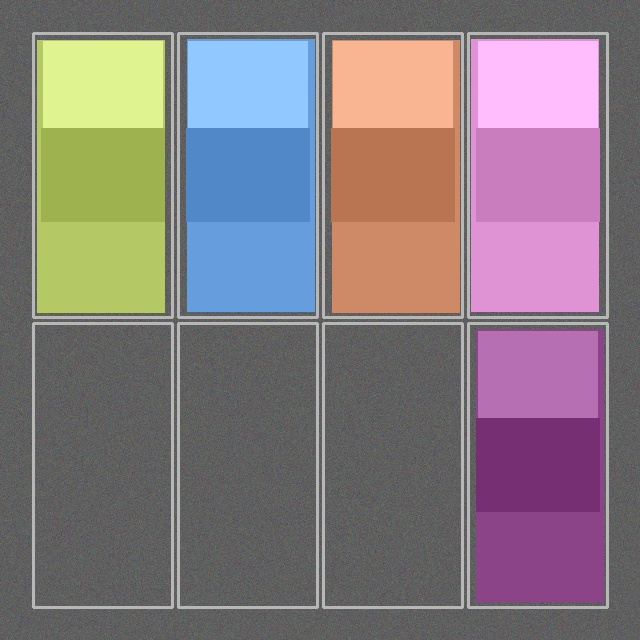space-empty: (35, 325, 170, 605), (180, 325, 315, 605), (325, 325, 460, 605)
space-occupied: (35, 35, 170, 315), (180, 35, 315, 315), (325, 35, 460, 315), (470, 35, 605, 315), (470, 325, 605, 605)
